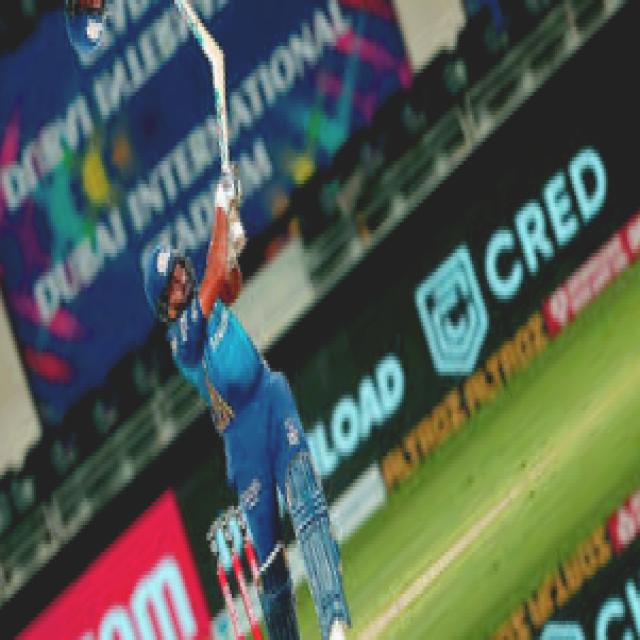toe: (208, 48, 230, 82)
